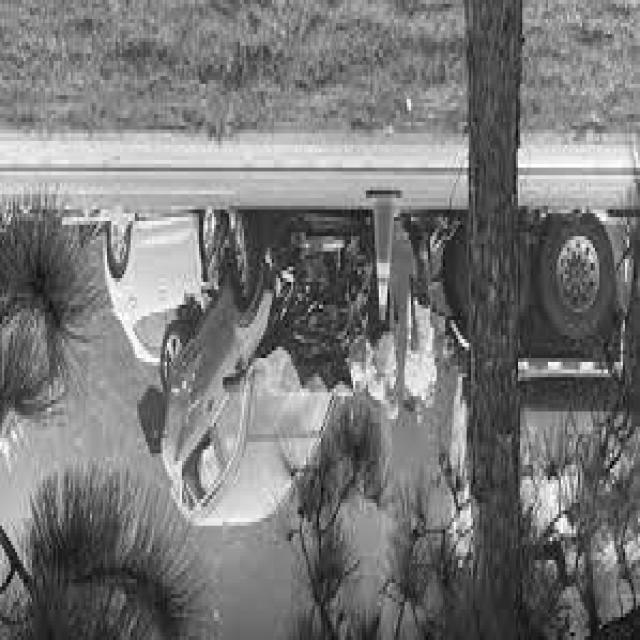severe: (104, 202, 380, 537)
